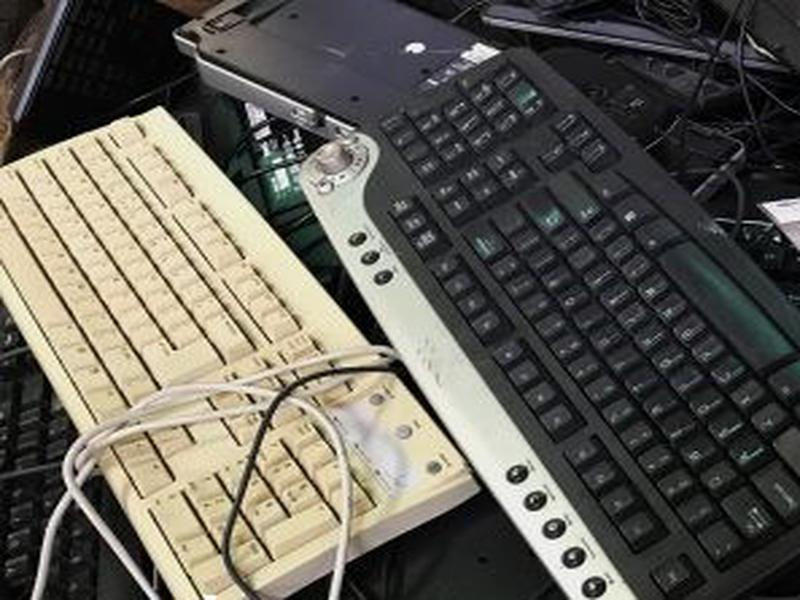keyboard: (297, 48, 800, 600), (1, 106, 481, 598)
